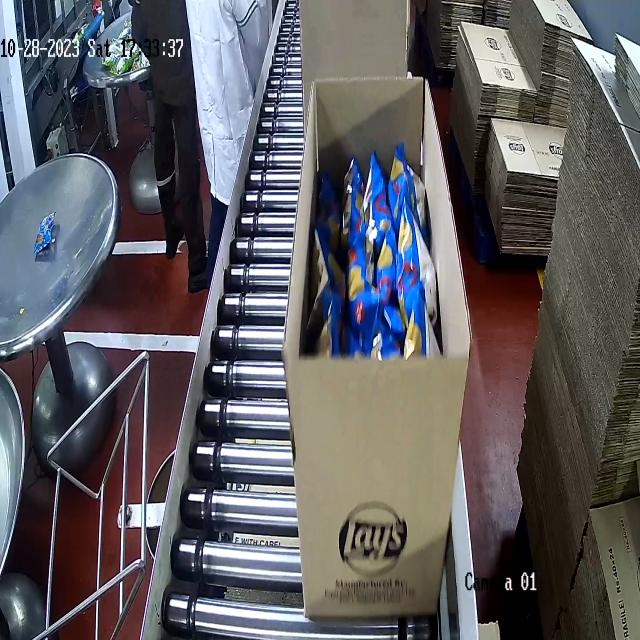PAPRIKA: (304, 136, 447, 362)
